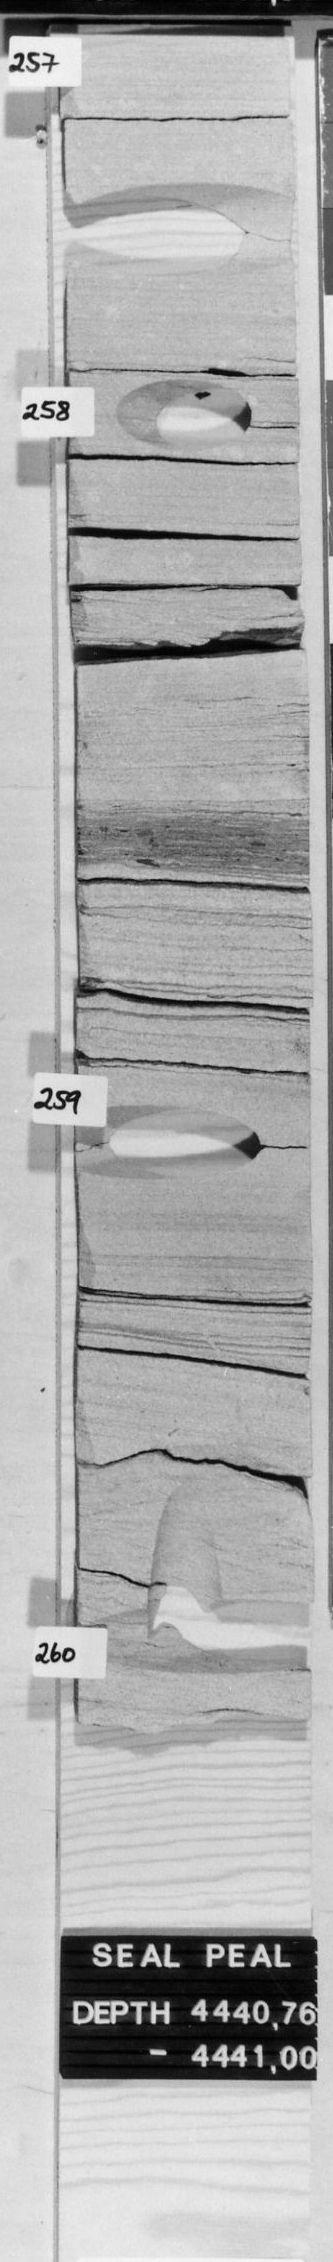hplug: (94, 1598, 308, 1688), (79, 1104, 285, 1184), (108, 377, 267, 453)
scal: (66, 180, 293, 304)
vplug: (124, 1466, 231, 1624)
